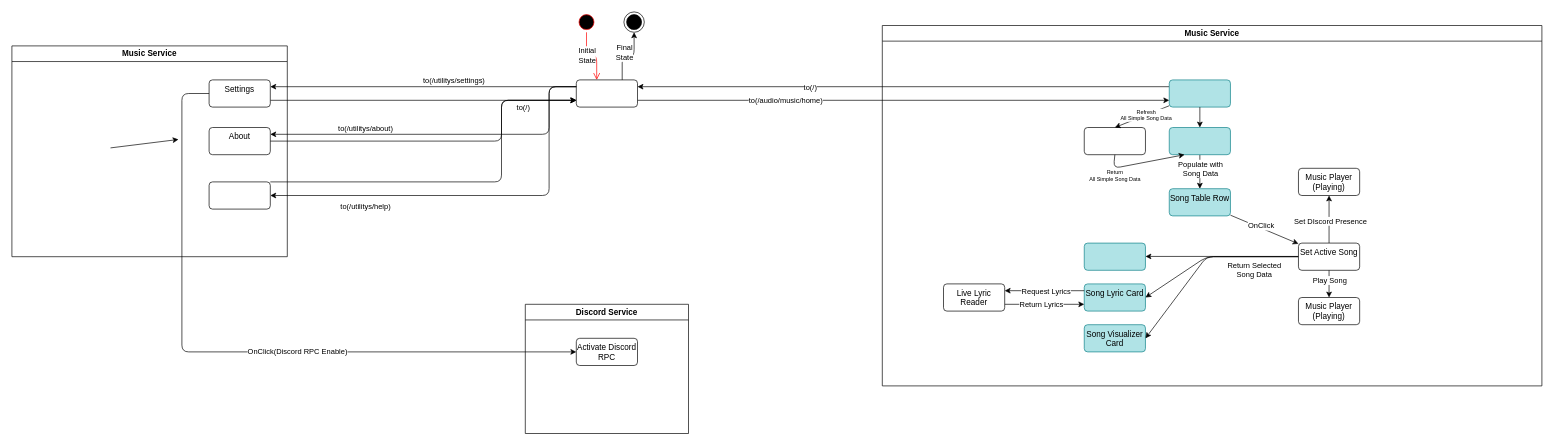
This 1554x445 diagram has some shape labels left out. The shapes that lost their labels are listed below. From the top down, each one's centre as x and y in pixels, then its label:
point 607,93: Dashboard
point 1199,93: Music View
point 1114,141: Metadata Reader
point 1199,141: Song Table
point 239,195: Help
point 1114,256: Song Info Card
